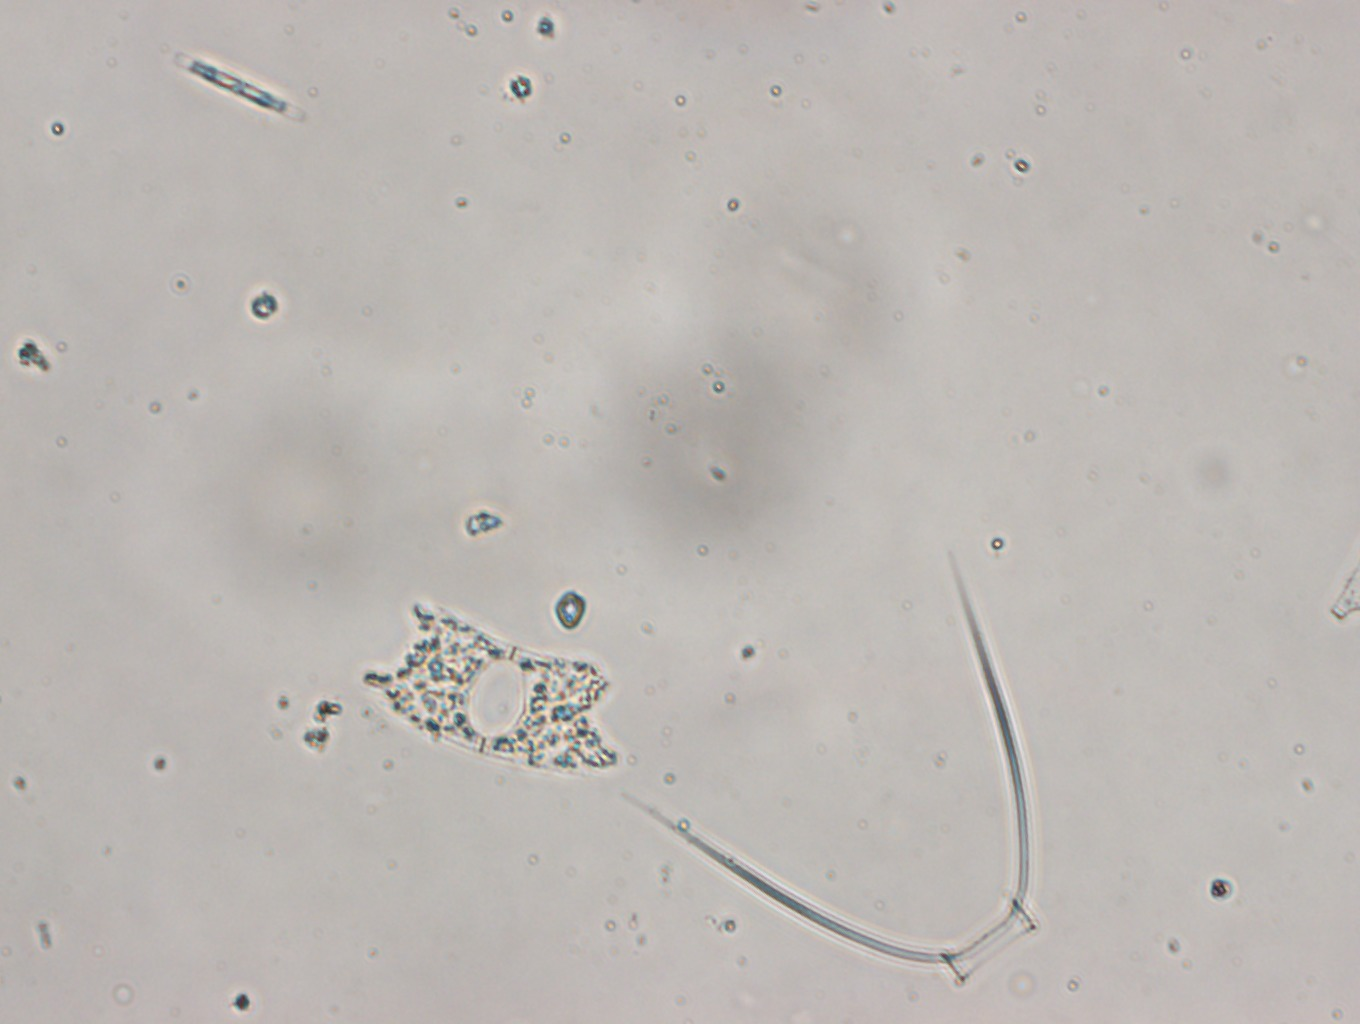chaetoceros: (628, 544, 1037, 984)
eucampia: (362, 601, 619, 769)
